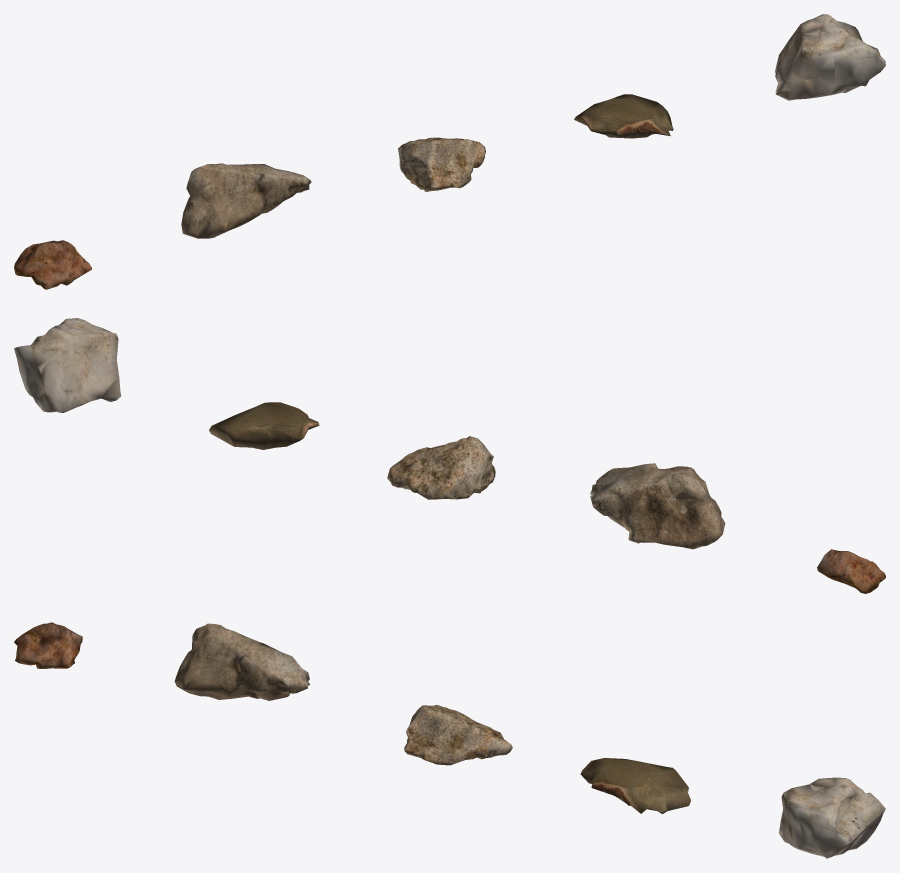
File: namaqualand_stones_01.glb
3 renders of one model, top to bottom at view 1: azimuth 30°, elevation 25°; view 2: azimuth 150°, elevation 25°; view 3: azimuth 330°, elevation 25°, orthographic.
Parts seen in each view (by area): view 1: namaqualand_stones_01_a; view 2: namaqualand_stones_01_a; view 3: namaqualand_stones_01_a.
Part boxes in pixels (x1=…): namaqualand_stones_01_a: x1=14, y1=14, x2=885, y2=289; namaqualand_stones_01_a: x1=14, y1=318, x2=885, y2=593; namaqualand_stones_01_a: x1=14, y1=622, x2=885, y2=858.
Bounding box in the file's own units: 1.02 × 0.0825 × 0.1116.
1 material, 1 textured.
